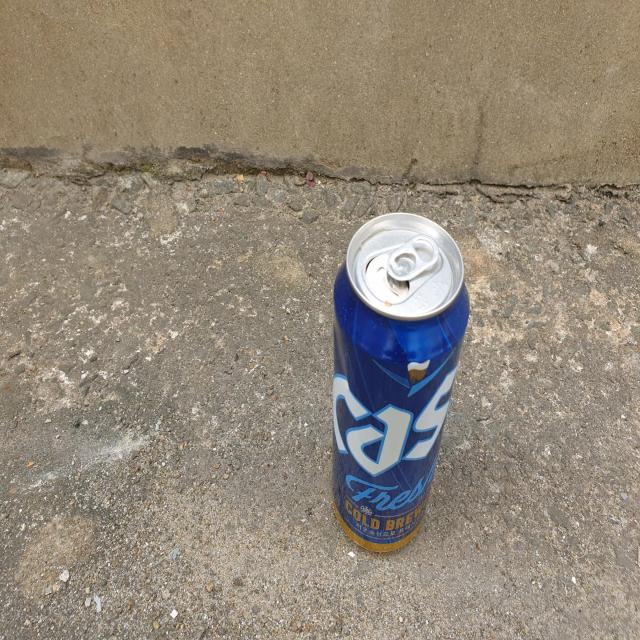can: (333, 212, 470, 552)
